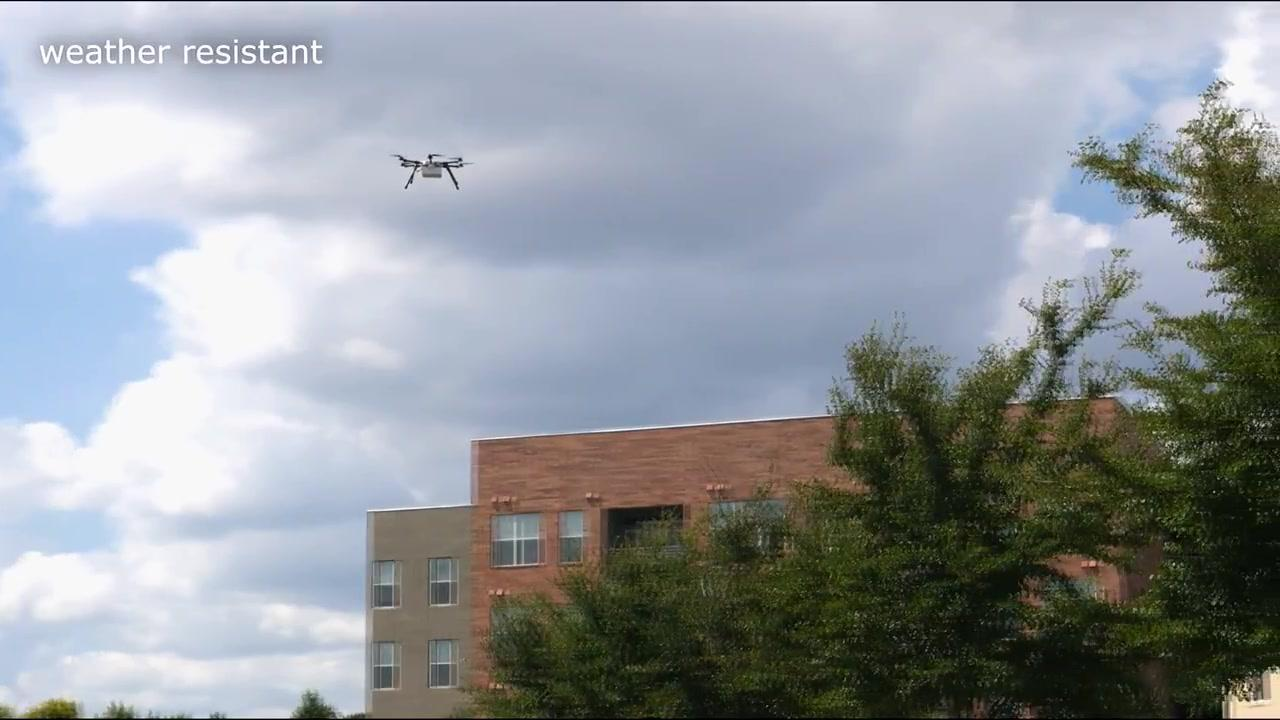UAV: (390, 155, 477, 191)
